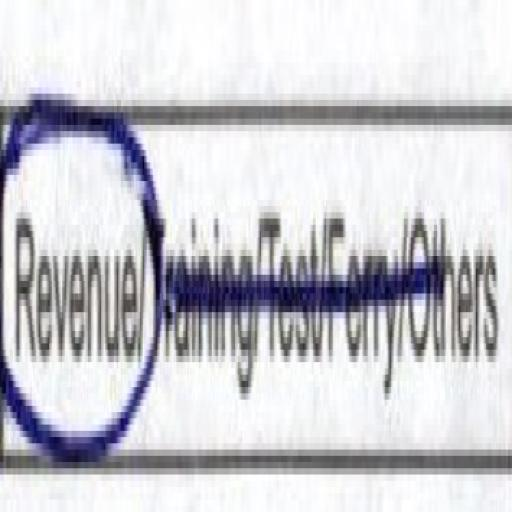check: (0, 33, 147, 478)
